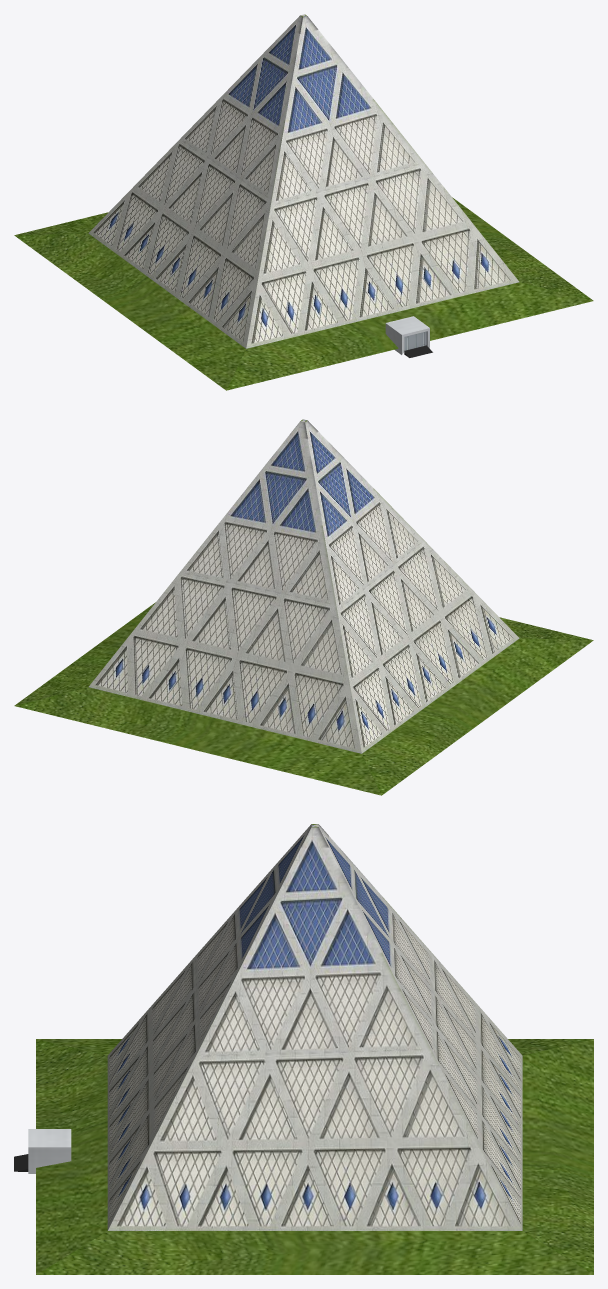
Rendered from KZ_Palace_46_trisfbx.fbx.
3 renders of one model, top to bottom at view 1: azimuth 30°, elevation 25°; view 2: azimuth 150°, elevation 25°; view 3: azimuth 270°, elevation 25°, orthographic. The views are drawn at different scales.
Parts seen in each view (by area): view 1: KZ_pyramid; view 2: KZ_pyramid; view 3: KZ_pyramid.
Boxes of the visible parts, x1,y1,x2,y2 form: KZ_pyramid: (14, 14, 593, 390); KZ_pyramid: (14, 419, 593, 795); KZ_pyramid: (14, 824, 593, 1274).
Size of the model in its own units: 2.69 by 1.79 by 2.8.
